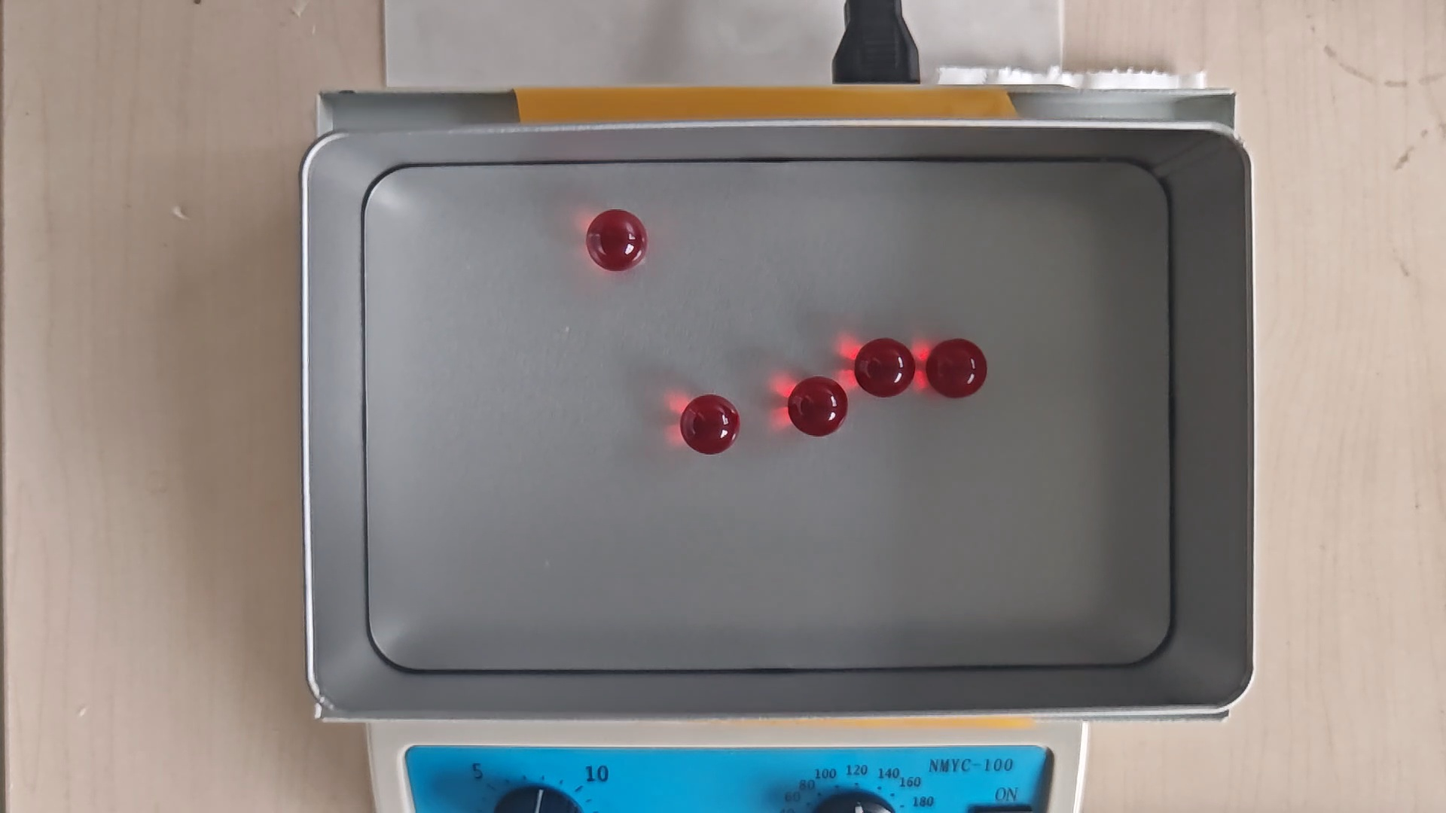ball: (585, 209, 647, 273), (788, 377, 847, 440), (682, 394, 740, 455), (927, 339, 986, 398), (858, 340, 914, 399)
container: (359, 156, 1175, 674)
